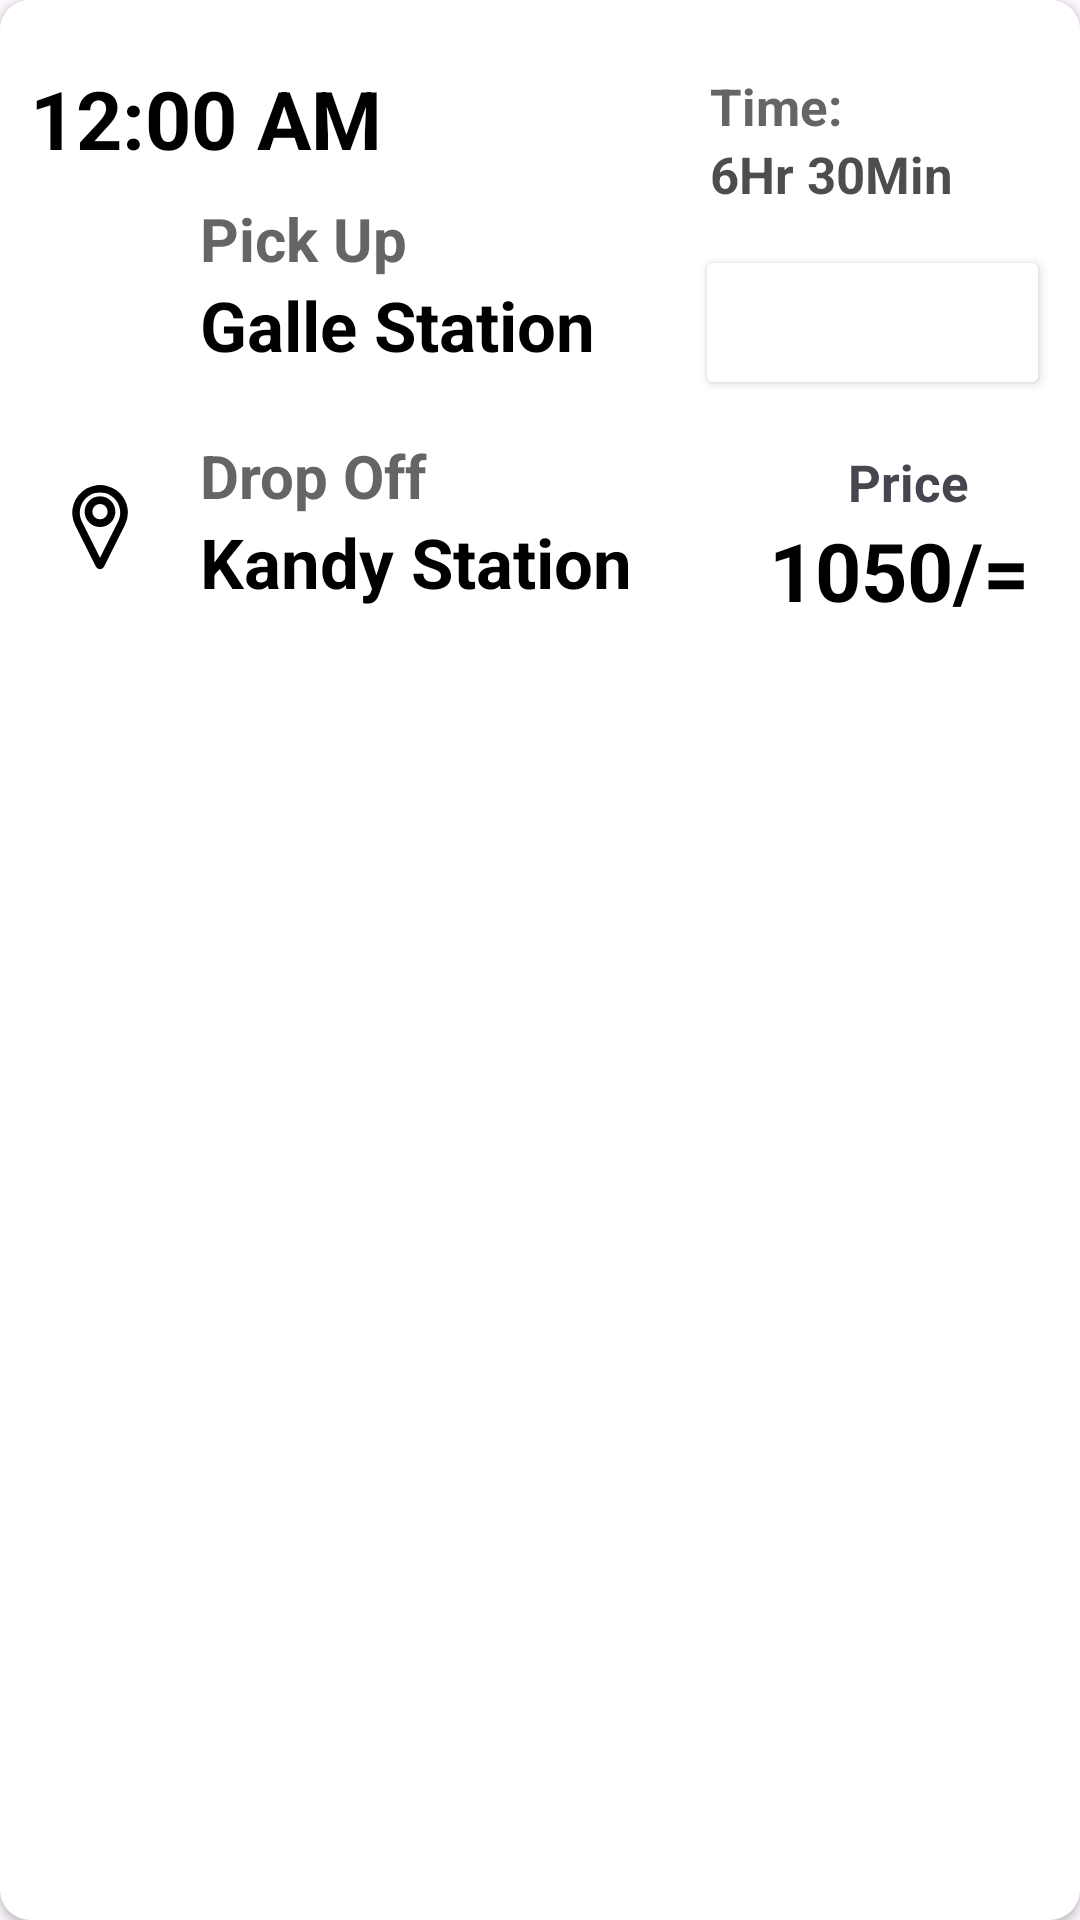

Screen size 1080*1920. Icon name, then its box in pixels as (x1, y1, x2, y2):
direction: (72, 485, 128, 570)
